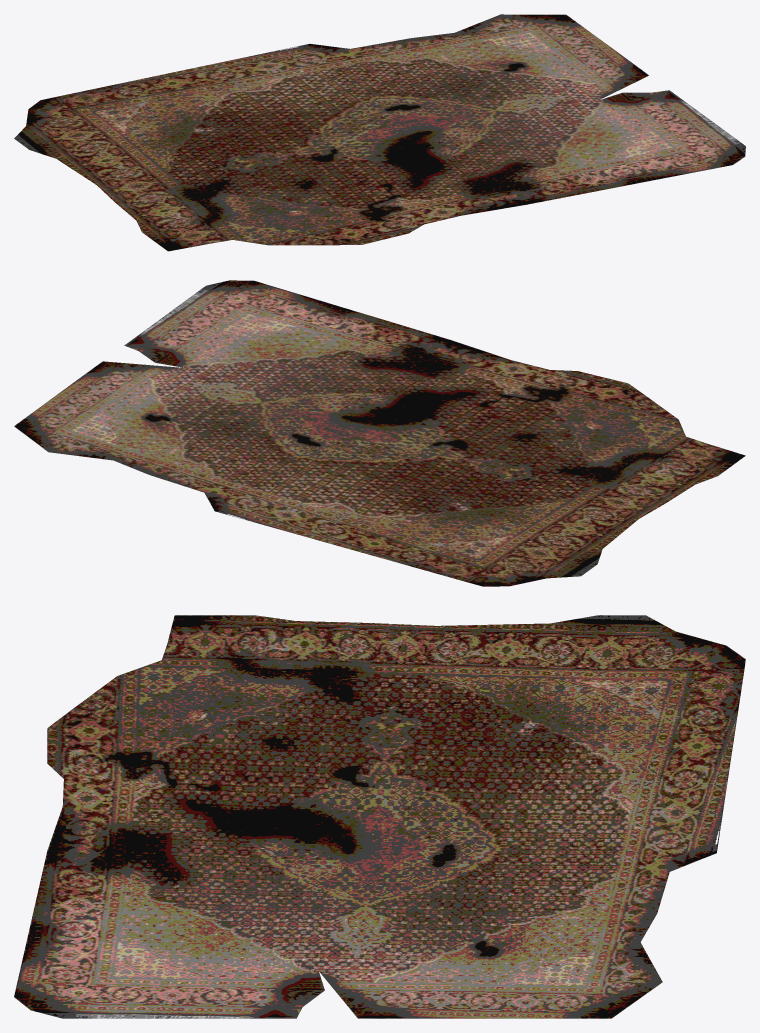
Rendered from Tapete.fbx.
3 renders of one model, top to bottom at view 1: azimuth 30°, elevation 25°; view 2: azimuth 150°, elevation 25°; view 3: azimuth 270°, elevation 25°, orthographic. The views are drawn at different scales.
Parts seen in each view (by area): view 1: Tapete; view 2: Tapete; view 3: Tapete.
Part boxes in pixels (x1,y1,x2,y2): Tapete: (14,14,745,251); Tapete: (14,280,745,586); Tapete: (14,615,745,1018).
Bounding box in the file's own units: 183 × 3.95e-05 × 140.
1 material, 1 textured.
